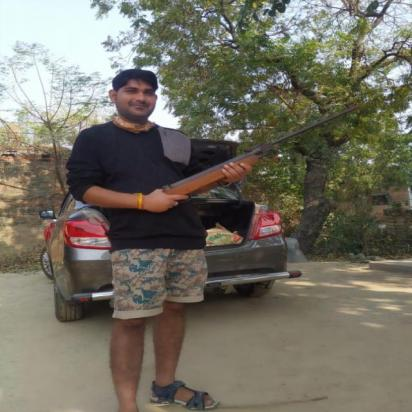Gun: (147, 102, 367, 212)
